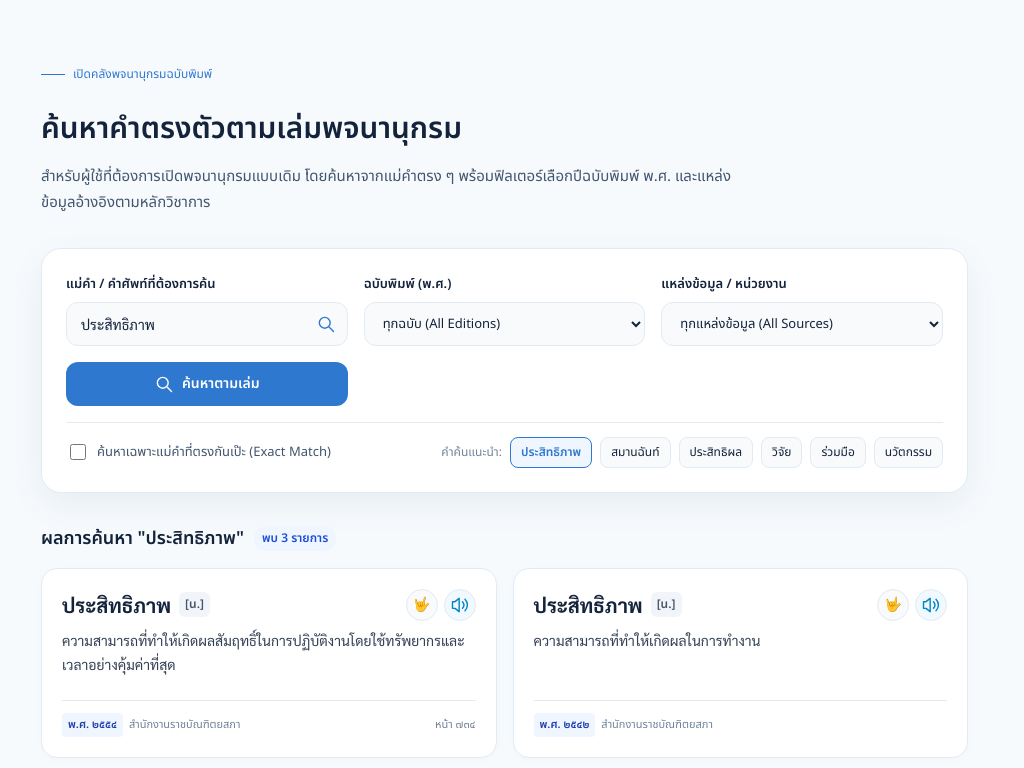
Test: DictionaryBrowser Component › submits form when searching for a new keyword
Replace the text in the search field named "ค้นหาคำศัพท์ตามแม่คำ" with "วิจัย" at (207, 324), box [66,302,348,346]
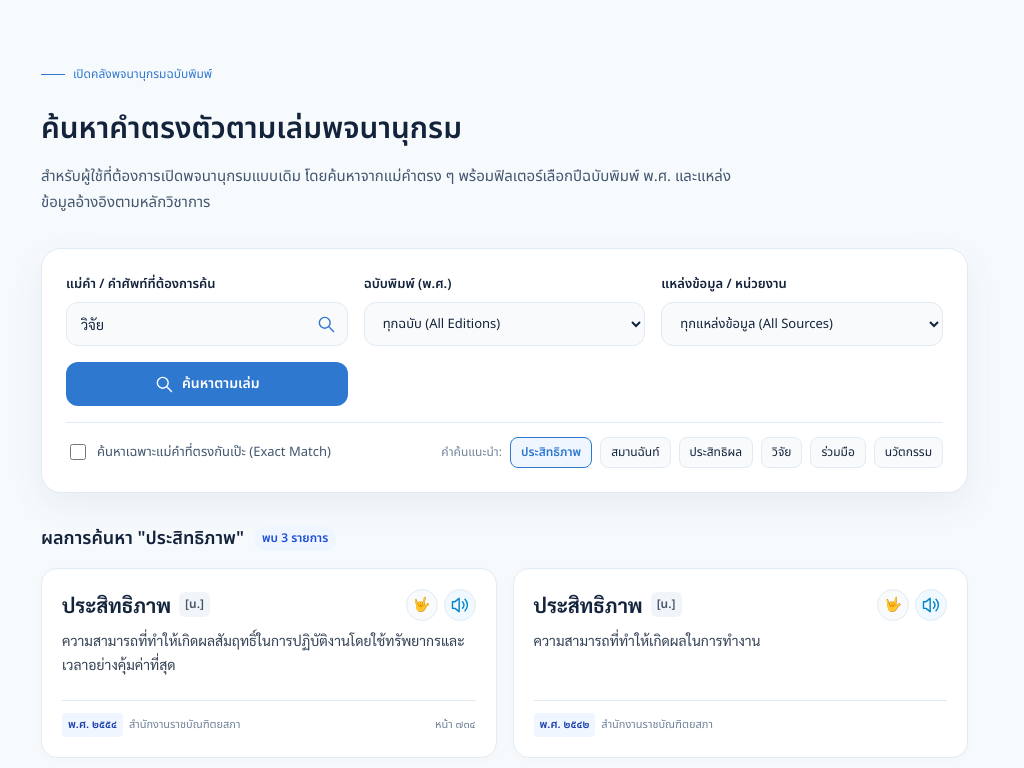
Click the button "ค้นหาตามเล่ม" at (207, 384), box [66,362,348,406]
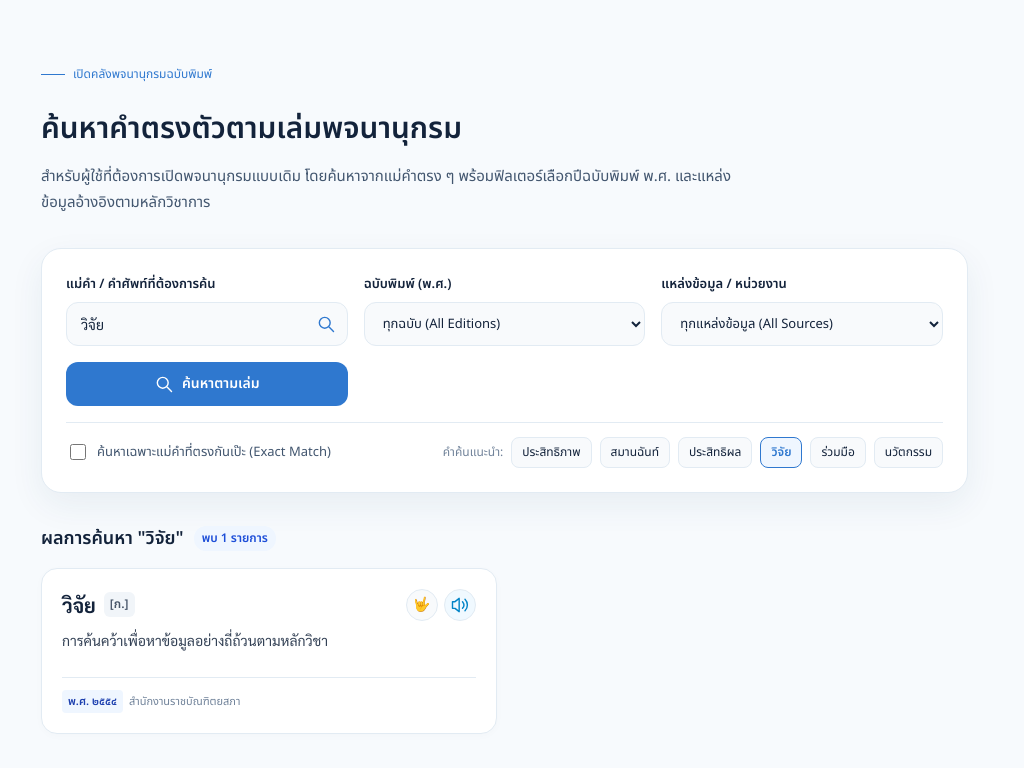
Expected: the text "การค้นคว้าเพื่อหาข้อมูลอย่างถี่ถ้วนตามหลักวิชา" is shown, [62,631,328,649]
